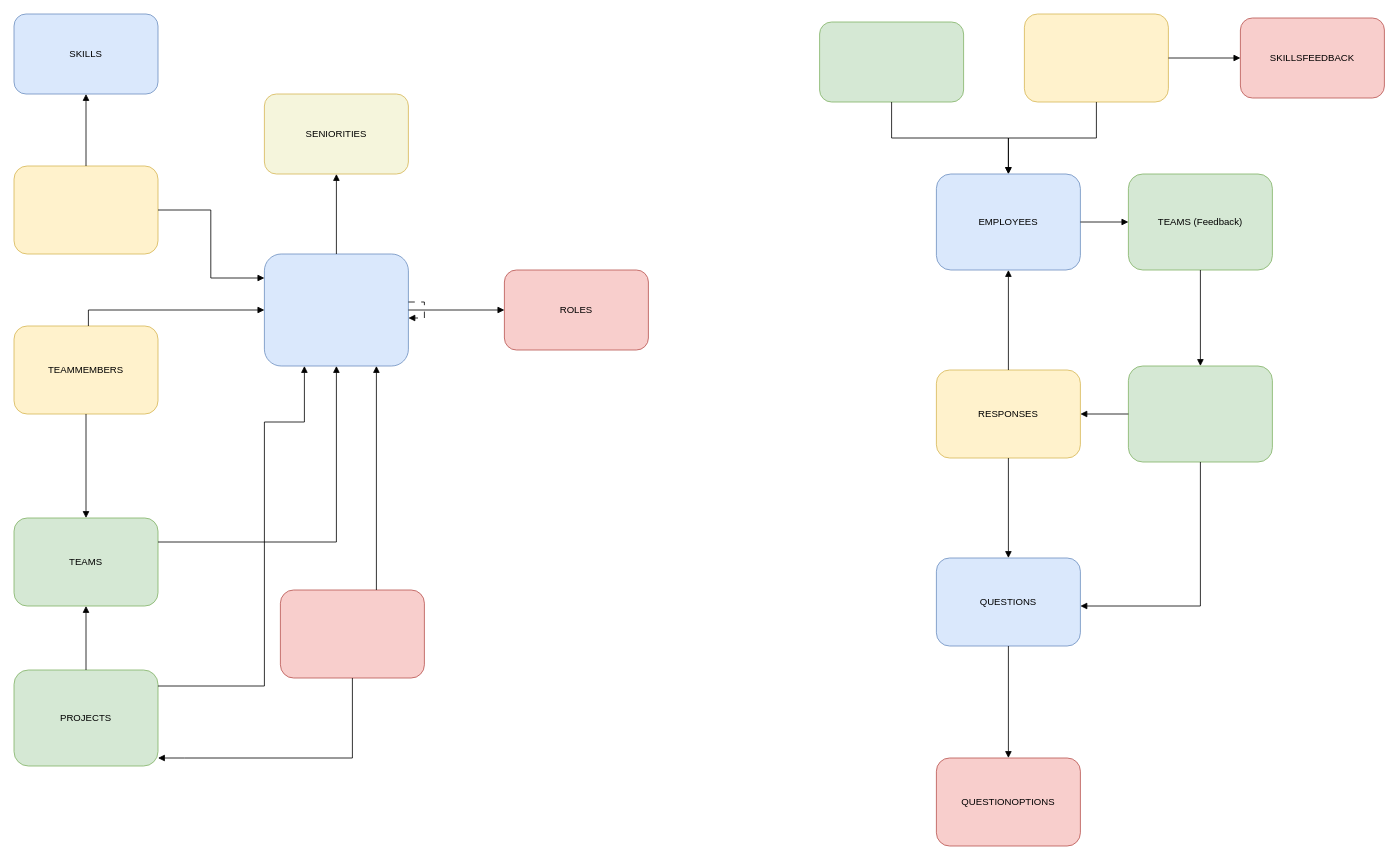
This 1398x860 diagram has some shape labels left out. The shapes that lost their labels are listed below. From the top down, each one's box as (x1, y1, x2, y2) in pixels, then its label:
(819, 21, 964, 102): FEEDBACKS
(1024, 13, 1168, 102): EMPLOYEESKILLS
(13, 165, 158, 254): USERSKILLS
(264, 253, 408, 366): USERS
(1128, 365, 1272, 462): SURVEYS
(280, 589, 424, 678): ALLOCATIONS
